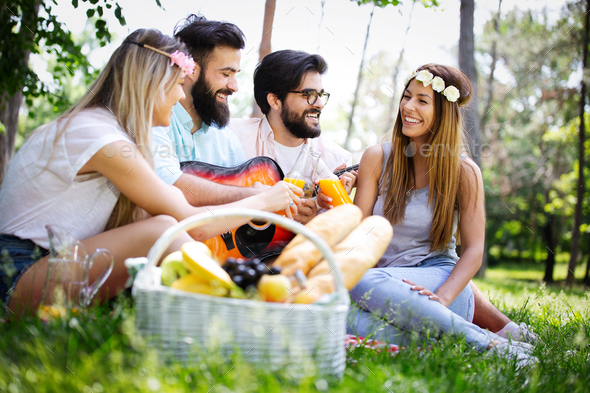Person: (1, 27, 306, 327), (347, 62, 548, 392), (134, 10, 246, 264), (226, 48, 359, 211)
